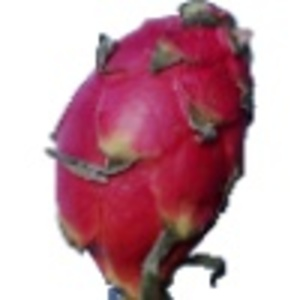pitaia: (49, 1, 257, 300)
